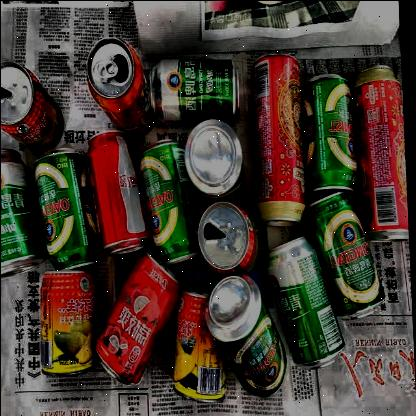Can: (92, 248, 186, 388), (248, 52, 318, 226), (264, 239, 349, 375), (204, 273, 290, 399), (308, 192, 388, 322), (354, 63, 410, 246), (81, 129, 161, 253), (32, 146, 108, 272), (136, 137, 210, 265), (34, 269, 102, 385), (304, 71, 364, 194), (151, 56, 247, 126), (0, 146, 48, 284), (170, 290, 228, 404), (0, 60, 70, 154), (85, 36, 153, 130), (194, 198, 276, 274), (183, 115, 252, 198)
